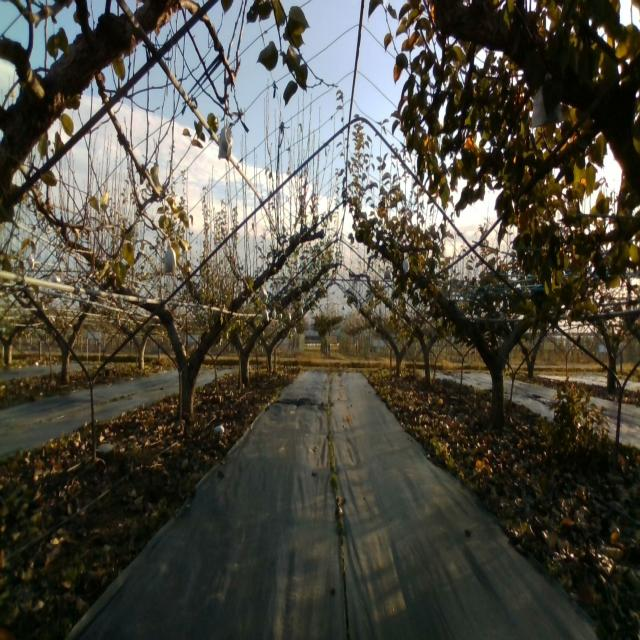pearbags: (217, 118, 233, 161), (162, 242, 178, 275)
